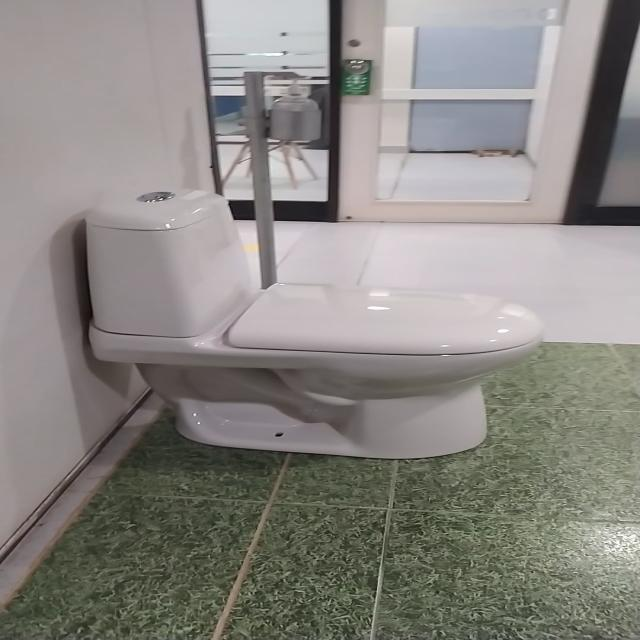toilet: (84, 188, 545, 460)
